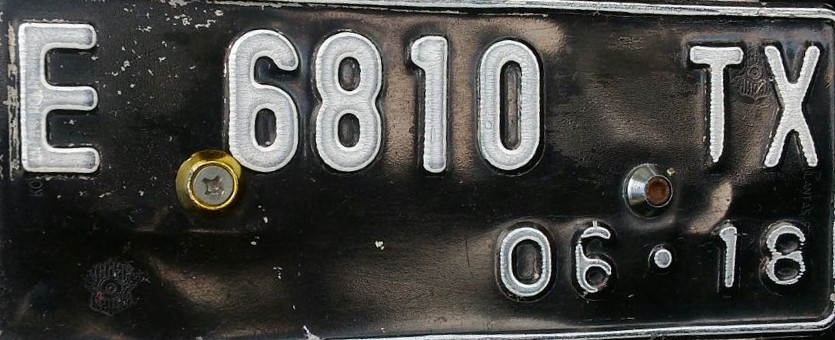plate: (3, 1, 833, 336)
